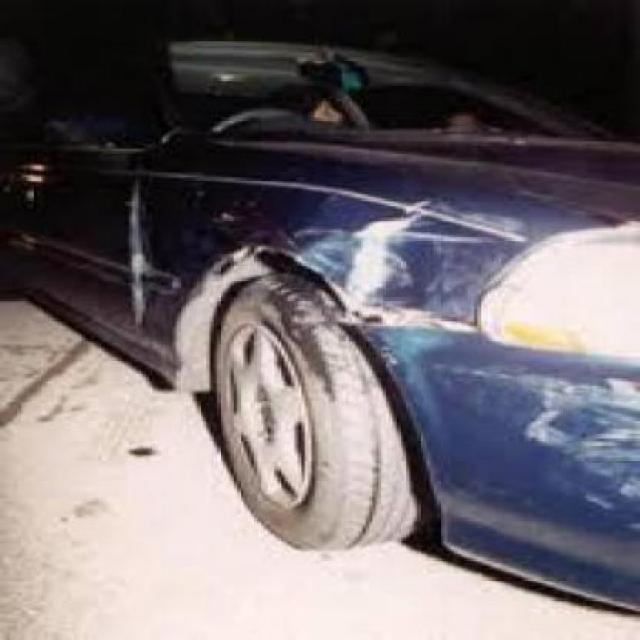damage: (300, 185, 519, 367), (438, 356, 636, 531), (117, 186, 163, 327)
